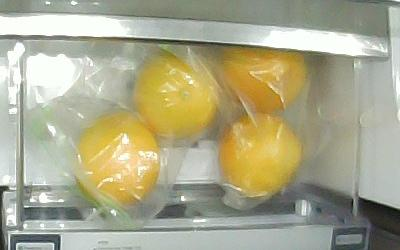grapefruit_vinyl: (73, 112, 161, 208), (218, 114, 302, 197), (134, 55, 217, 137), (218, 46, 307, 114)
